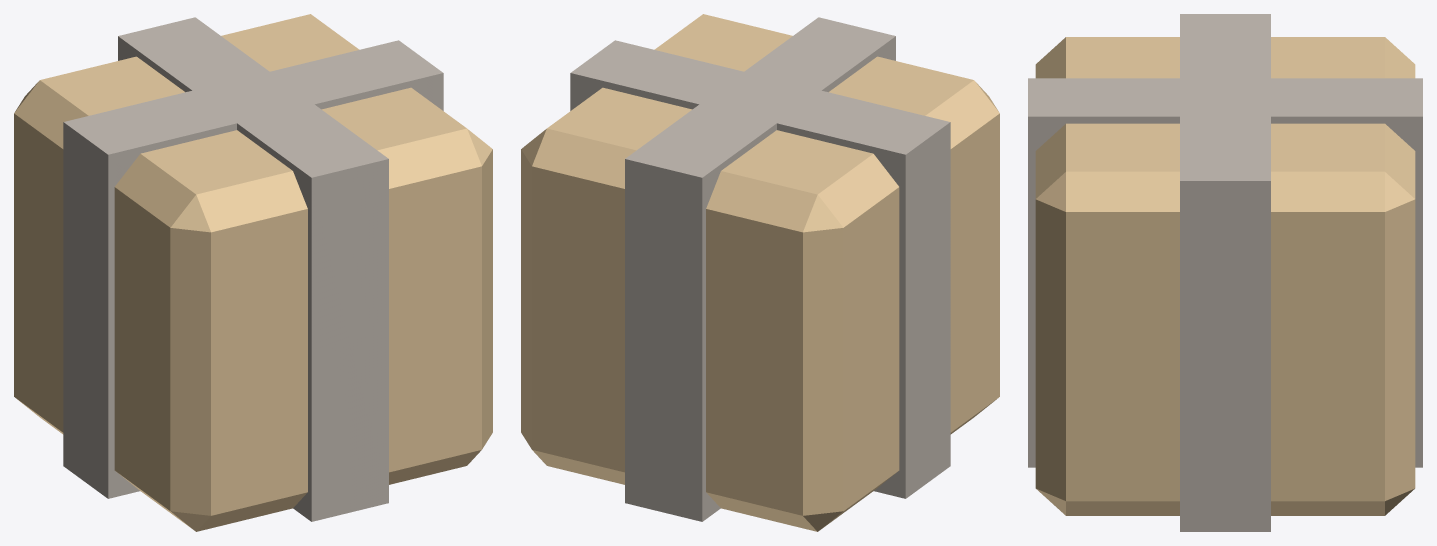
The model's file is Crate.fbx.
The picture shows the model from 3 angles, left to right: view 1: azimuth 30°, elevation 25°; view 2: azimuth 150°, elevation 25°; view 3: azimuth 270°, elevation 25°; orthographic projection. The views are drawn at different scales.
Visible parts, largest first — view 1: Crate; view 2: Crate; view 3: Crate.
Boxes of the visible parts, bbox=[...] form: Crate: bbox=[14, 14, 492, 531]; Crate: bbox=[521, 14, 999, 531]; Crate: bbox=[1028, 14, 1422, 531].
Size of the model in its own units: 0.104 by 0.102 by 0.104.
